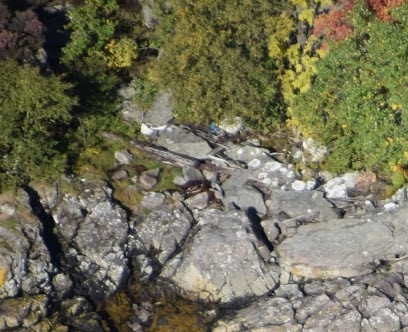scattered_barrel: (137, 113, 238, 166)
